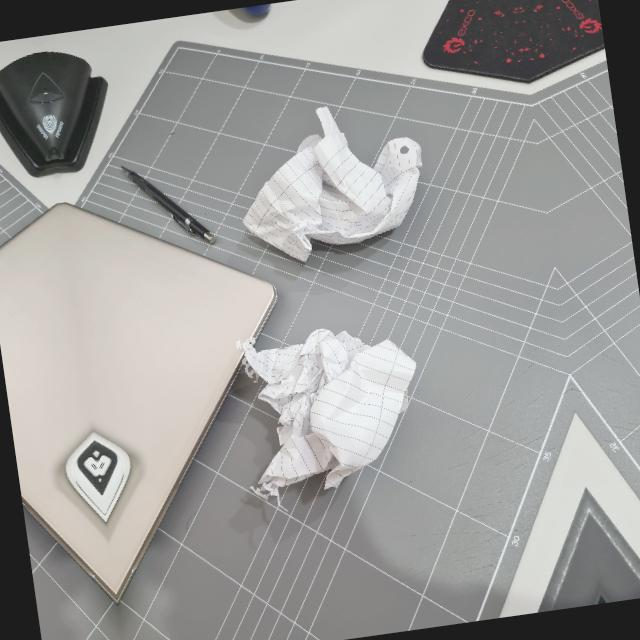paper: (235, 317, 428, 502), (233, 96, 439, 268)
